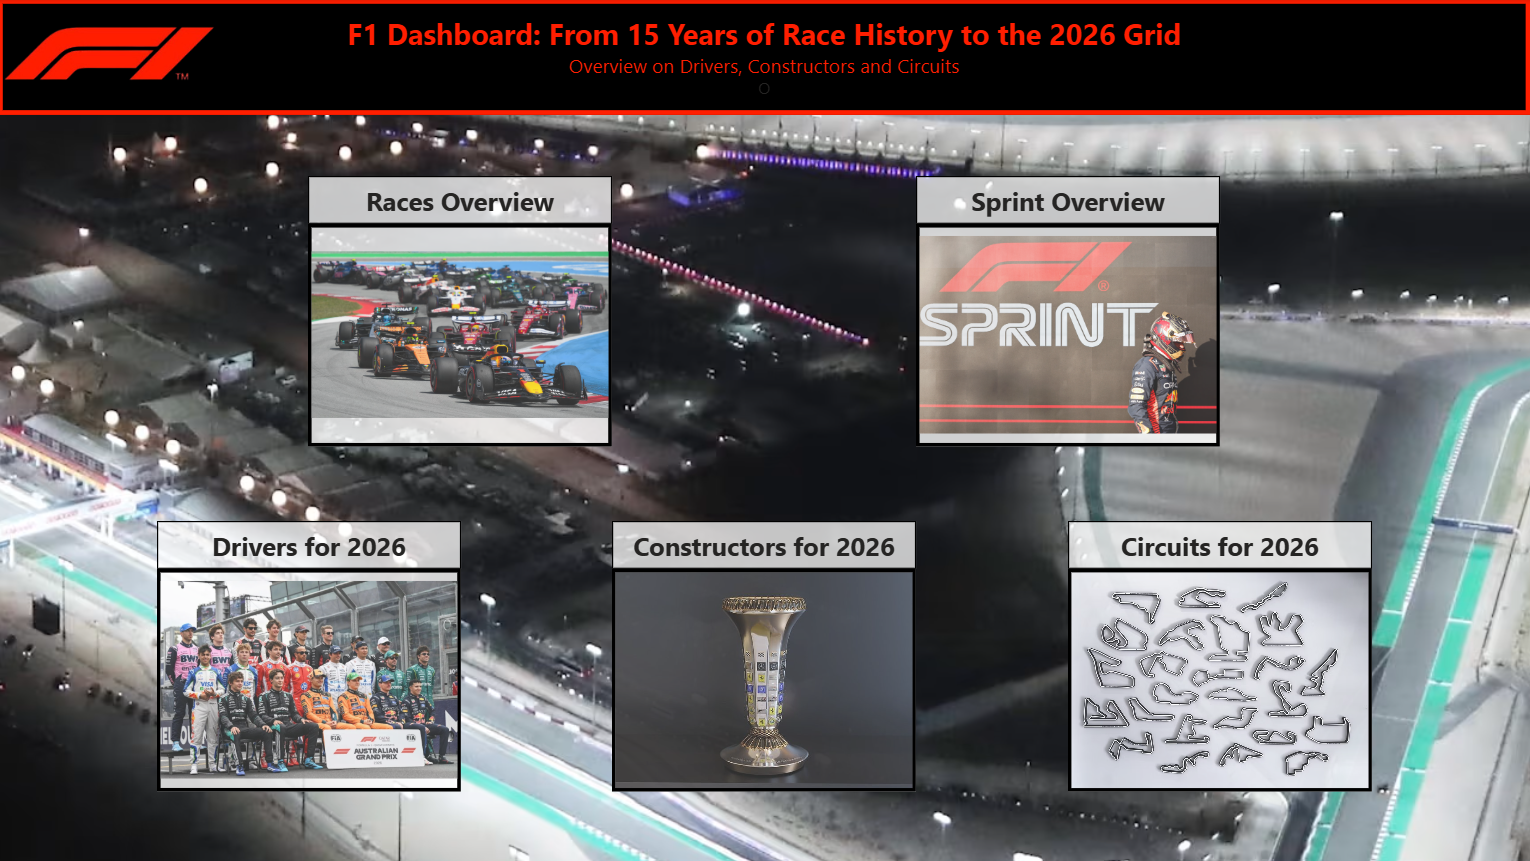

The page's visual inventory and layout, read from the dashboard file:
{"tool":"powerbi","page":{"name":"Landing","canvas":[1280,720],"ordinal":0},"visuals":[{"type":"actionButton","box":[513.1,476.4,253.8,185.9],"z":0},{"type":"textbox","box":[513.1,436.3,253.8,40.1],"z":1000},{"type":"actionButton","box":[132.5,476.4,253.8,185.9],"z":2000},{"type":"textbox","box":[132.5,436.3,253.8,40.1],"z":3000},{"type":"actionButton","box":[893.8,476.4,253.8,185.9],"z":4000},{"type":"textbox","box":[893.8,436.3,253.8,40.1],"z":5000},{"type":"actionButton","box":[259.3,188.1,253.8,185.9],"z":6000},{"type":"textbox","box":[259.3,148,253.8,40.1],"z":7000},{"type":"actionButton","box":[766.9,188.1,253.8,185.9],"z":8000},{"type":"textbox","box":[766.9,148,253.8,40.1],"z":9000},{"type":"shape","box":[0,0,1280,96.8],"z":9500},{"type":"image","box":[0,0,190.3,96.8],"z":10000},{"type":"textbox","box":[190.3,7.8,899.3,80.1],"z":12000}]}

Visuals, with their boxes in screenshot pixels (x1, y1, x2, y2), scaled from the page's 1280x720 canvas onto the 1530x861 screenshot:
actionButton: region(613, 570, 917, 792)
textbox: region(613, 522, 917, 570)
actionButton: region(158, 570, 462, 792)
textbox: region(158, 522, 462, 570)
actionButton: region(1068, 570, 1372, 792)
textbox: region(1068, 522, 1372, 570)
actionButton: region(310, 225, 613, 447)
textbox: region(310, 177, 613, 225)
actionButton: region(917, 225, 1220, 447)
textbox: region(917, 177, 1220, 225)
shape: region(0, 0, 1529, 116)
image: region(0, 0, 227, 116)
textbox: region(227, 9, 1302, 105)
